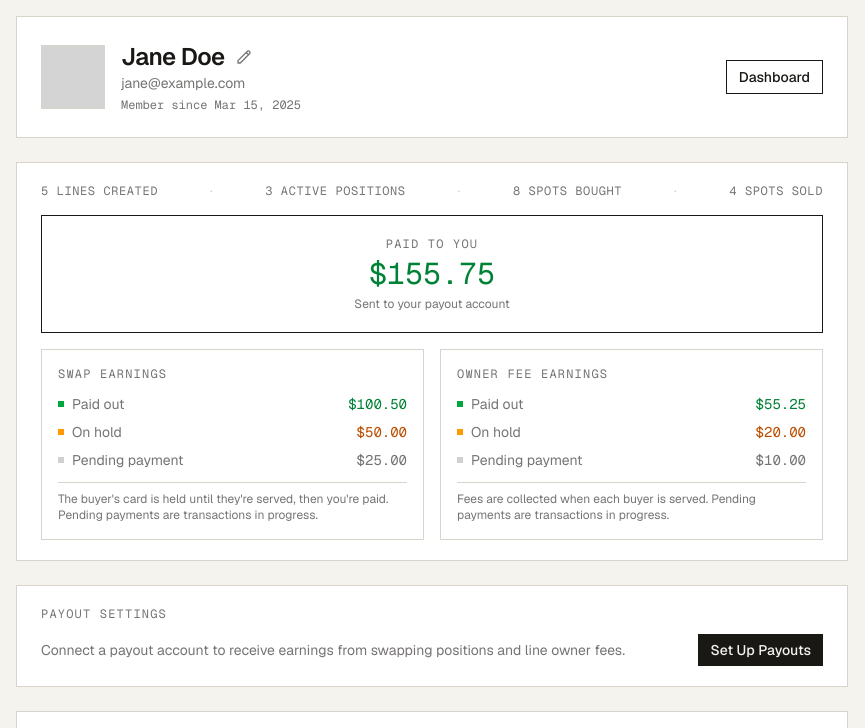
Scenario: ProfileClient › Profile name editing › reverts to original name when cancel is clicked
The width and height of the screenshot is (865, 728).
Enter edit mode
Click the button titled "Edit name" at (244, 57), box top-left (232, 45), bottom-right (256, 69)
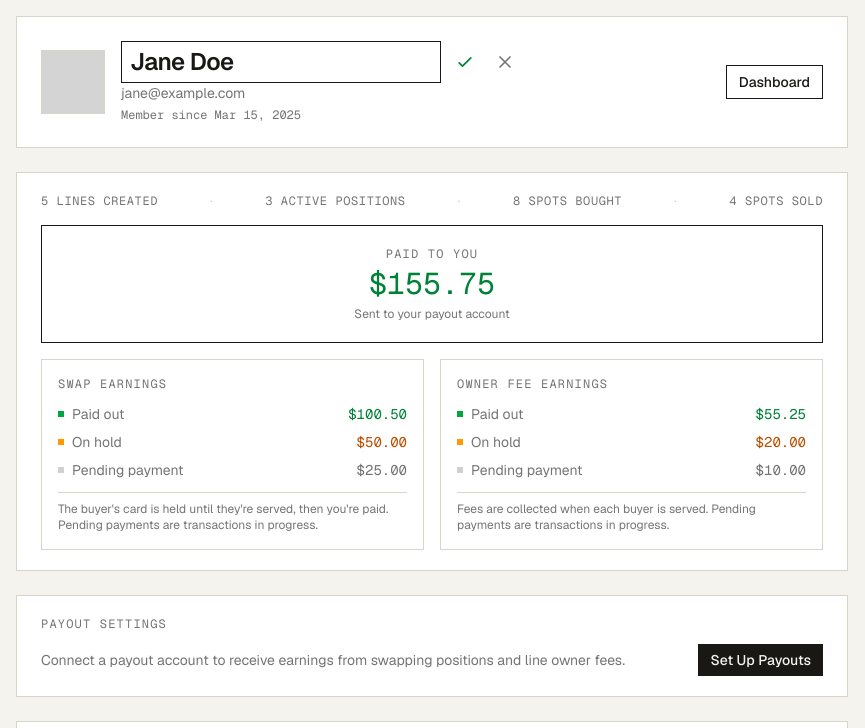
Change the name
Replace the text in the field showing "Jane Doe" with "Something Else" at (281, 62), box top-left (121, 41), bottom-right (441, 83)
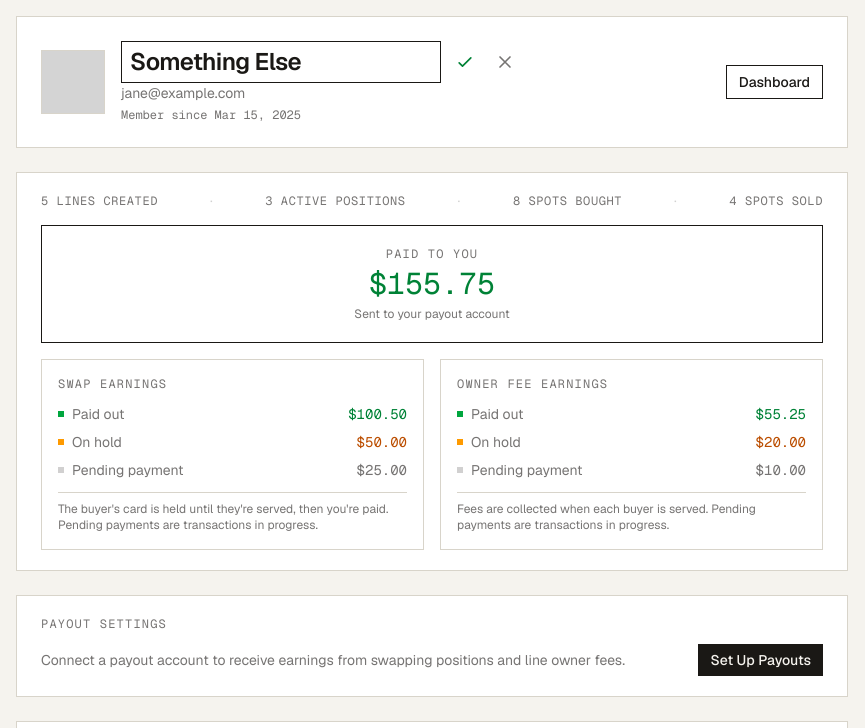
Click cancel
Click the button titled "Cancel" at (505, 62), box top-left (489, 46), bottom-right (521, 78)
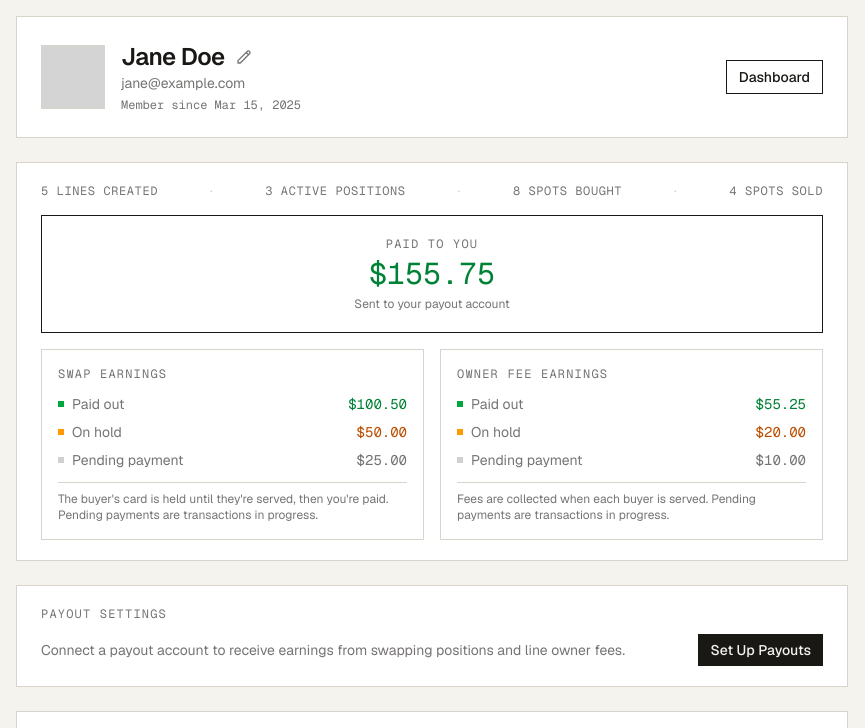
Check: the field showing "Something Else" is not shown
Check: the heading "Jane Doe" is shown, box top-left (121, 41), bottom-right (224, 73)
